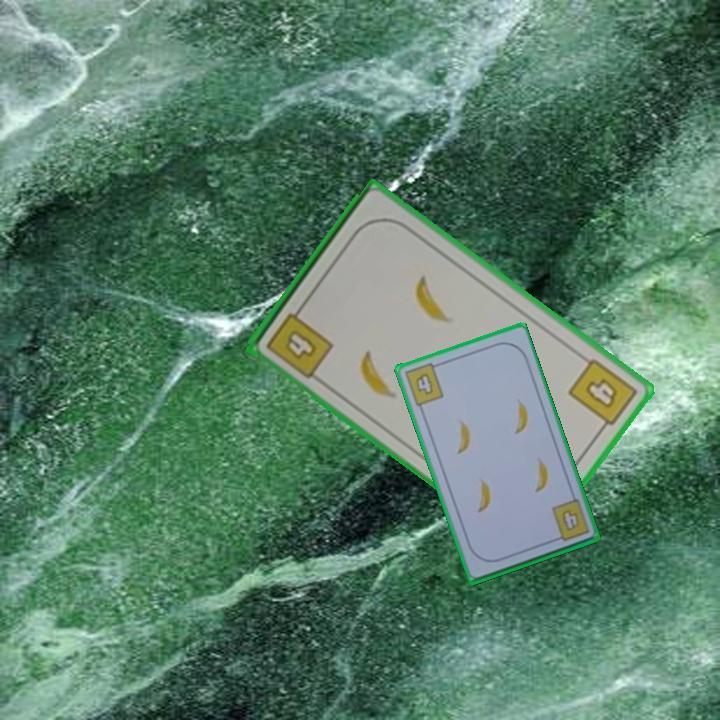4b: (564, 354, 641, 437), (262, 301, 337, 382), (401, 359, 447, 409), (548, 496, 592, 544)
